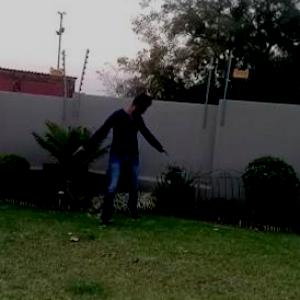land: (69, 90, 180, 234)
